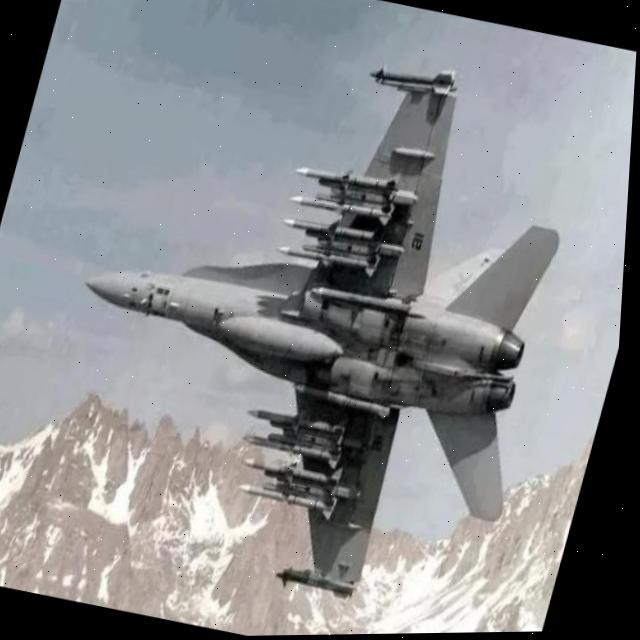missile: (228, 402, 372, 524), (270, 157, 408, 282)
